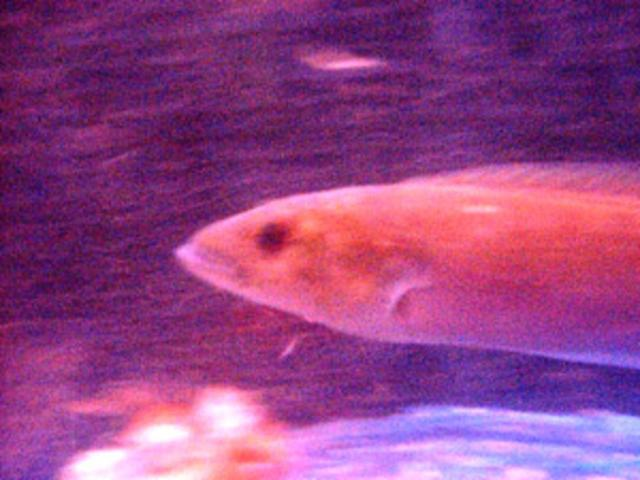fish: (159, 113, 640, 402)
